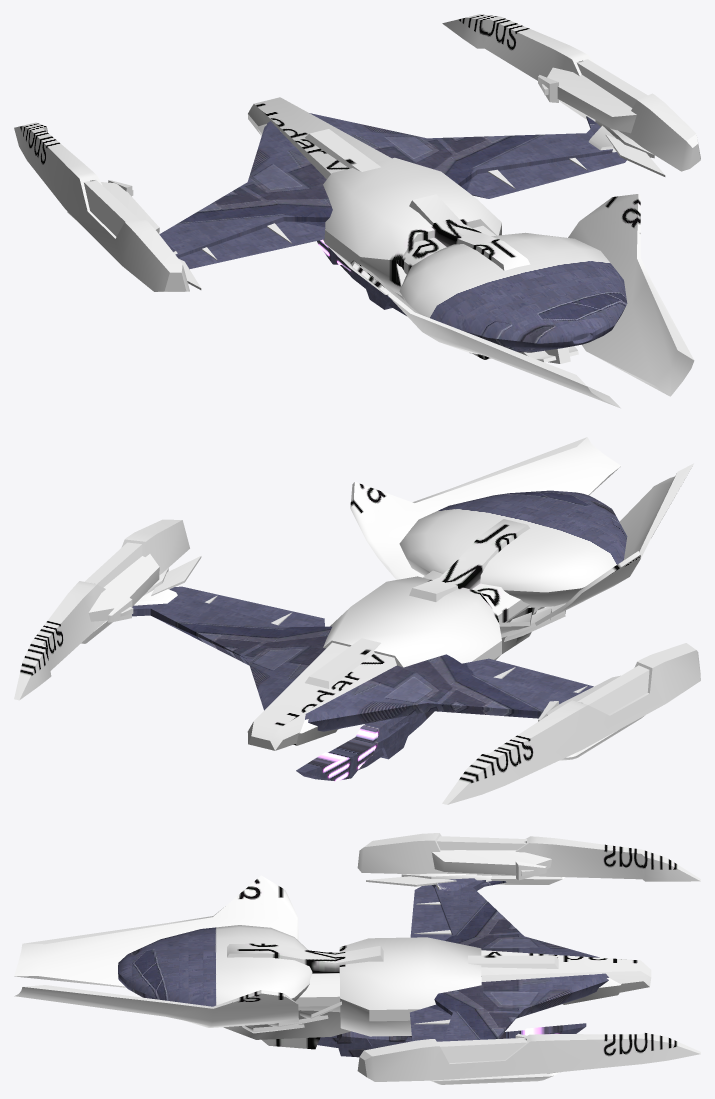
File: Dom_Virulent.fbx
The picture shows the model from 3 angles, top to bottom: view 1: azimuth 30°, elevation 25°; view 2: azimuth 150°, elevation 25°; view 3: azimuth 270°, elevation 25°; orthographic projection. The views are drawn at different scales.
Visible parts, largest first — view 1: Dom_Virulent; view 2: Dom_Virulent; view 3: Dom_Virulent.
Boxes of the visible parts, x1,y1,x2,y2 form: Dom_Virulent: (14, 14, 700, 408); Dom_Virulent: (14, 437, 700, 804); Dom_Virulent: (14, 833, 700, 1084).
Size of the model in its own units: 321 by 86.89 by 422.
Materials: 1 (1 with a texture image).
